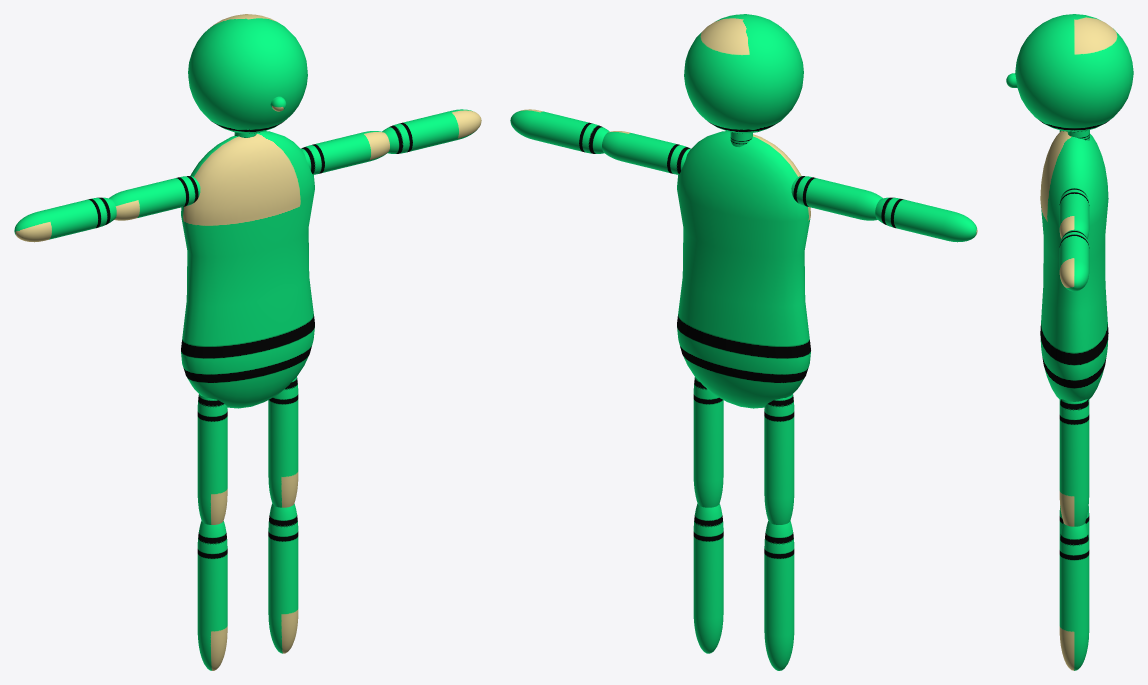
Rendered from Player.fbx.
3 views of the same model, side by side, from view 1: azimuth 30°, elevation 25°; view 2: azimuth 150°, elevation 25°; view 3: azimuth 270°, elevation 25° (orthographic).
Parts seen in each view (by area): view 1: Body, Head, LeftFoot, RightFoot, RightLeg, LeftLeg, RightHand, LeftHand, RightArm, LeftArm; view 2: Body, Head, LeftFoot, RightFoot, RightLeg, LeftLeg, RightHand, LeftHand, RightArm, LeftArm; view 3: Body, Head, LeftFoot, LeftLeg, LeftHand, LeftArm.
Boxes of the visible parts, x1,y1,x2,y2 form: Body: (181, 131, 314, 408); Head: (188, 14, 307, 133); LeftFoot: (268, 503, 298, 653); RightFoot: (197, 521, 227, 670); RightLeg: (197, 394, 227, 524); LeftLeg: (268, 377, 298, 507); RightHand: (14, 197, 116, 242); LeftHand: (382, 109, 481, 153); RightArm: (109, 176, 200, 220); LeftArm: (301, 131, 389, 174); Body: (677, 131, 810, 408); Head: (684, 14, 803, 133); LeftFoot: (693, 503, 723, 653); RightFoot: (764, 521, 794, 670); RightLeg: (764, 394, 794, 524); LeftLeg: (693, 377, 723, 507); RightHand: (875, 197, 977, 242); LeftHand: (510, 109, 609, 153); RightArm: (791, 176, 882, 220); LeftArm: (602, 131, 690, 174); Body: (1040, 130, 1108, 401); Head: (1015, 14, 1133, 132); LeftFoot: (1059, 523, 1089, 670); LeftLeg: (1059, 399, 1089, 526); LeftHand: (1059, 229, 1089, 291); LeftArm: (1059, 188, 1089, 238).
Bounding box in the file's own units: 179 × 236 × 43.
Materials: 1 (1 with a texture image).
